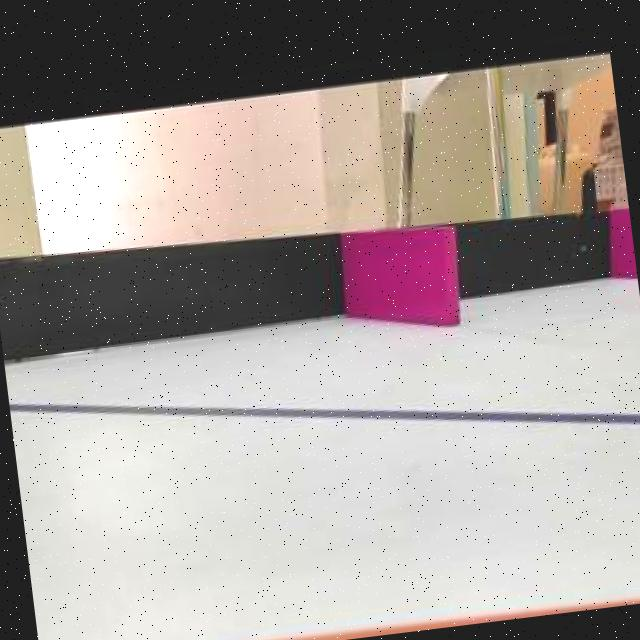xparking: (346, 225, 456, 327), (610, 205, 636, 275)
